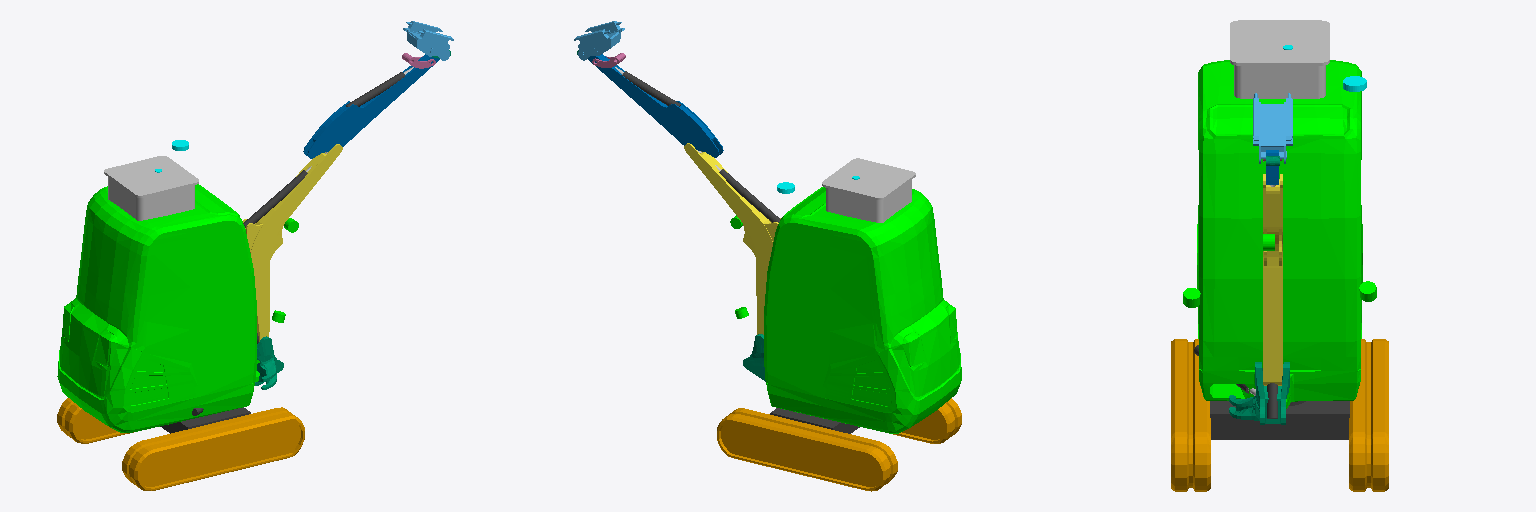
robot.urdf — e1_oilquick_without_tool:
<?xml version="1.0" encoding="utf-8"?>
<!-- =================================================================================== -->
<!-- |    This document was autogenerated by xacro from e1_oilquick_without_tool.urdf.xacro | -->
<!-- |    EDITING THIS FILE BY HAND IS NOT RECOMMENDED                                 | -->
<!-- =================================================================================== -->
<!-- Copyright (c) 2013-2019 [author], Karlsruhe, Germany. All rights reserved. -->
<robot name="e1_oilquick_without_tool">
  <material name="material_velodyne">
    <!--color rgba="0.5 0.5 0.55 1"/-->
    <!--color rgba="0.2 0.9 0.2 1"/-->
    <color rgba="0. 1. 0. 1"/>
  </material>
  <material name="material_box">
    <color rgba="0.8 0.8 0.8 0.8"/>
  </material>
  <material name="material_imugps">
    <!--color rgba="0.5 0.5 0.55 1"/-->
    <!--color rgba="0.2 0.9 0.2 1"/-->
    <color rgba="0. 1. 1. 1"/>
  </material>
  <material name="material_cylinder">
    <color rgba="0.3 0.3 0.3 1"/>
  </material>
  <material name="material_piston">
    <color rgba="0.8 0.8 0.8 1"/>
  </material>
  <link name="chassis">
    <inertial>
      <mass value="1500"/>
      <origin rpy="0  0  0" xyz="-0.534  0     0.686"/>
      <inertia ixx="0" ixy="0" ixz="0" iyy="0" iyz="0" izz="0"/>
    </inertial>
    <collision name="collision_undercarriage">
      <origin rpy="0  0  0" xyz="0     0     0.296"/>
      <geometry>
        <box size=".600 .840 .172"/>
      </geometry>
    </collision>
    <visual name="visual_undercarriage">
      <origin rpy="0  0  0" xyz="0     0     0.296"/>
      <geometry>
        <box size=".600 .840 .172"/>
      </geometry>
      <material name="material_cylinder"/>
    </visual>
    <collision name="collision_rotation_gear">
      <origin rpy="0 0 0" xyz="0 0 0.432"/>
      <geometry>
        <cylinder length=".1" radius=".20"/>
      </geometry>
    </collision>
    <visual name="visual_rotation_gear">
      <origin rpy="0 0 0" xyz="0 0 0.432"/>
      <geometry>
        <cylinder length=".1" radius=".20"/>
      </geometry>
      <material name="material_cylinder"/>
    </visual>
    <collision name="collision_track_tire_right">
      <origin rpy="0 0 0" xyz="-.110 -.535 .191"/>
      <geometry>
        <box size="1.605 .230 .382"/>
      </geometry>
    </collision>
    <visual name="visual_track_tire_right">
      <origin rpy="0 0 0" xyz="0.05 -.535 0"/>
      <geometry>
        <mesh filename="package://e1_description/meshes/track_wheel.dae" scale="0.411 0.4 0.4"/>
      </geometry>
    </visual>
    <collision name="collision_track_tire_left">
      <origin rpy="0 0 0" xyz="-.110 .535 .191"/>
      <geometry>
        <box size="1.605 .230 .382"/>
      </geometry>
    </collision>
    <visual name="visual_track_tire_left">
      <origin rpy="0 0 0" xyz="0.05 .535 0"/>
      <geometry>
        <mesh filename="package://e1_description/meshes/track_wheel.dae" scale="0.411 0.4 0.4"/>
      </geometry>
    </visual>
    <collision name="collision_blade">
      <origin rpy="0 0 0" xyz="0.8775 0 0.075"/>
      <geometry>
        <box size="0.37 1.3 0.91"/>
      </geometry>
    </collision>
  </link>
  <link name="cabin">
    <collision name="collision_cabin">
      <origin rpy="0 0 0" xyz="-.384 0 1.5"/>
      <geometry>
        <box size="1.50 1.1 2.1"/>
      </geometry>
    </collision>
    <visual name="visual_cabin">
      <origin rpy="0 0 1.5707" xyz="0 0 0.400"/>
      <geometry>
        <mesh filename="package://e1_description/meshes/cabin.dae" scale="0.45 0.45 0.45"/>
      </geometry>
      <material name="material_velodyne"/>
    </visual>
  </link>
  <link name="intermediate_cabin_boom">
    <inertial>
      <mass value="10"/>
      <origin rpy="0  0  0" xyz="0.09  0    0.02"/>
      <inertia ixx="0" ixy="0" ixz="0" iyy="0" iyz="0" izz="0"/>
    </inertial>
    <collision name="collision">
      <origin rpy="0 0 0" xyz="0.07 -0.07 0.05"/>
      <geometry>
        <box size=".400 .40 .40"/>
      </geometry>
    </collision>
    <visual name="visual">
      <origin rpy="0  0  0" xyz="0     0    -0.002"/>
      <geometry>
        <mesh filename="package://e1_description/meshes/intermediate.dae" scale="0.45 0.45 0.45"/>
      </geometry>
    </visual>
  </link>
  <link name="boom">
    <inertial>
      <mass value="50"/>
      <origin rpy="0  0  0" xyz="0.14   0     0.935"/>
      <inertia ixx="0" ixy="0" ixz="0" iyy="0" iyz="0" izz="0"/>
    </inertial>
    <collision name="collision_boom_1">
      <origin rpy="0 -0.05 0" xyz="-0.0 0 0.57"/>
      <geometry>
        <box size=".350 .250 1.200"/>
      </geometry>
    </collision>
    <collision name="collision_boom_2">
      <origin rpy="0 0.8224 0" xyz="0.3 0 1.38"/>
      <geometry>
        <box size=".300 .250 1.05"/>
      </geometry>
    </collision>
    <collision name="velodyne_boom_c">
      <origin rpy="1.67339 -0.544965 3.09109" xyz="0.266848 0.0019812 1.03801"/>
      <geometry>
        <cylinder length="0.12" radius="0.08"/>
      </geometry>
    </collision>
    <visual name="visual_boom">
      <origin rpy="0      -0.02    -3.14158" xyz="0  0  0"/>
      <geometry>
        <mesh filename="package://e1_description/meshes/boom.dae" scale="1.1 1.1 1.1"/>
      </geometry>
    </visual>
  </link>
  <link name="stick">
    <inertial>
      <mass value="30"/>
      <origin rpy="0  0  0" xyz="0.495  0     0.31"/>
      <inertia ixx="0" ixy="0" ixz="0" iyy="0" iyz="0" izz="0"/>
    </inertial>
    <collision name="stick">
      <origin rpy="0 1.018 0" xyz="0.375 0 0.34"/>
      <geometry>
        <box size=".30 .350 1.5"/>
      </geometry>
    </collision>
    <visual name="stick">
      <origin rpy="0     0.055  0" xyz="0  0  0"/>
      <geometry>
        <mesh filename="package://e1_description/meshes/stick.dae" scale="0.42 0.43 0.45"/>
      </geometry>
    </visual>
  </link>
  <link name="base_link"/>
  <joint name="chassis_rotation" type="continuous">
    <parent link="base_link"/>
    <child link="chassis"/>
    <origin rpy="0  0  0" xyz="0 0 0"/>
    <axis xyz="0  0  1"/>
    <limit effort="0" lower="0" upper="0" velocity="0.2"/>
  </joint>
  <joint name="blade_z" type="prismatic">
    <parent link="chassis"/>
    <child link="blade"/>
    <origin rpy="0 0 0" xyz="0.8775 0 -0.115"/>
    <axis xyz="0 0 1"/>
    <limit effort="0.0" lower="0.13" upper="0.35" velocity="0.0"/>
  </joint>
  <joint name="cabin_rotation" type="continuous">
    <parent link="chassis"/>
    <child link="cabin"/>
    <origin rpy="0  0  0" xyz="0 0 0"/>
    <axis xyz="0  0  1"/>
    <limit effort="0" lower="-3.141" upper="3.141" velocity="1.05"/>
  </joint>
  <joint name="slewing_revolute" type="revolute">
    <parent link="cabin"/>
    <child link="intermediate_cabin_boom"/>
    <origin rpy="0  0  0" xyz="0.53    -0.044    0.57999"/>
    <axis xyz="0  0  1"/>
    <limit effort="0" lower="-0.78" upper="1.36" velocity="0.2"/>
  </joint>
  <joint name="boom_revolute" type="revolute">
    <parent link="intermediate_cabin_boom"/>
    <child link="boom"/>
    <origin rpy="0  0  0" xyz="0.095  0     0.18"/>
    <axis xyz="0  1  0"/>
    <limit effort="0" lower="0.0" upper="1.5" velocity="0.2"/>
  </joint>
  <joint name="stick_revolute" type="revolute">
    <parent link="boom"/>
    <child link="stick"/>
    <origin rpy="0  0  0" xyz="0.7    0     1.655"/>
    <axis xyz="0  1  0"/>
    <limit effort="0" lower="-0.02" upper="2" velocity="0.2"/>
  </joint>
  <joint name="slewing_prismatic" type="prismatic">
    <parent link="cylinder_slewing"/>
    <child link="piston_slewing"/>
    <origin rpy="0 0 0." xyz="0  0  0"/>
    <axis xyz="0  0  1"/>
    <limit effort="0.0" lower="0.4" upper="0.8" velocity="0.0"/>
  </joint>
  <joint name="boom_prismatic" type="prismatic">
    <parent link="cylinder_boom"/>
    <child link="piston_boom"/>
    <origin rpy="0 0.0  0" xyz="0  0  0"/>
    <axis xyz="0  0  1"/>
    <limit effort="0.0" lower="0.78" upper="1.14" velocity="0.0"/>
  </joint>
  <joint name="stick_prismatic" type="prismatic">
    <parent link="cylinder_stick"/>
    <child link="piston_stick"/>
    <origin rpy="0 0. 0" xyz="0  0  0"/>
    <axis xyz="0  0  1"/>
    <limit effort="0.0" lower="0.77" upper="1.23" velocity="0.0"/>
  </joint>
  <joint name="bucket_prismatic" type="prismatic">
    <parent link="cylinder_bucket"/>
    <child link="piston_bucket"/>
    <origin rpy="0 0 0" xyz="0  0  0"/>
    <axis xyz="0  0  1"/>
    <limit effort="0.0" lower="0.64" upper="0.983" velocity="0.0"/>
    <!--limit effort="0.0" lower="0.61" upper="1.02" velocity="0.0"/-->
    <!-- cylinder only 49cm, mit Gelenkpunkt 56cm, gemessen 2.218rad 93.5cm umgerechnet 97.0cm -->
    <!-- stick cylinder 68cm, boom 64cm mit Gelenkpunkt -->
    <!-- gemessen min/max 63.5cm, 98.0cm, umgerechnet alt 60.4cm, 100.9cm -->
  </joint>
  <joint name="cylinder_slewing" type="revolute">
    <parent link="cabin"/>
    <child link="cylinder_slewing"/>
    <origin rpy="-0.4 1.5707  0.1098" xyz="-0.05 -0.36 0.54"/>
    <axis xyz="1  0  0"/>
    <limit effort="0" lower="0" upper="0" velocity="0.1"/>
  </joint>
  <joint name="cylinder_boom" type="revolute">
    <parent link="intermediate_cabin_boom"/>
    <child link="cylinder_boom"/>
    <origin rpy="0  -0.55  0" xyz="0.21  0   -0.02"/>
    <axis xyz="0  1  0"/>
    <limit effort="0" lower="0" upper="0" velocity="0.1"/>
  </joint>
  <joint name="cylinder_stick" type="revolute">
    <parent link="boom"/>
    <child link="cylinder_stick"/>
    <origin rpy="0 1.0276 0" xyz="-0.13   0     1.135"/>
    <axis xyz="0  -1  0"/>
    <limit effort="0" lower="0" upper="0" velocity="0.1"/>
  </joint>
  <joint name="cylinder_bucket" type="revolute">
    <parent link="stick"/>
    <child link="cylinder_bucket"/>
    <origin rpy="0  1.242  0" xyz="0.14   0     0.315"/>
    <axis xyz="0  -1  0"/>
    <limit effort="0" lower="0" upper="0" velocity="0.1"/>
  </joint>
  <joint name="bucket_lever" type="revolute">
    <parent link="stick"/>
    <child link="bucket_lever_1_link"/>
    <origin rpy="0  0.05  0" xyz="0.89    0       0.56499"/>
    <axis xyz="0  1  0"/>
    <limit effort="0" lower="0" upper="0" velocity="0.1"/>
  </joint>
  <link name="cylinder_slewing">
    <inertial>
      <mass value="5"/>
      <origin rpy="0  0  0" xyz="0.  0   0"/>
      <inertia ixx="0" ixy="0" ixz="0" iyy="0" iyz="0" izz="0"/>
    </inertial>
    <visual name="visual_c_slewing">
      <origin rpy="0 0 0" xyz="0. 0  0.06"/>
      <geometry>
        <cylinder length=".640" radius=".034"/>
      </geometry>
      <material name="material_cylinder"/>
    </visual>
  </link>
  <link name="piston_slewing">
    <inertial>
      <mass value="5"/>
      <origin rpy="0  0  0" xyz="-0. -0.0  0.22"/>
      <inertia ixx="0" ixy="0" ixz="0" iyy="0" iyz="0" izz="0"/>
    </inertial>
    <visual name="visual_p_slewing">
      <origin rpy="0 0 0" xyz="-0. -0.0  -0.24"/>
      <geometry>
        <cylinder length=".600" radius=".020"/>
      </geometry>
      <material name="material_piston"/>
    </visual>
  </link>
  <link name="cylinder_boom">
    <inertial>
      <mass value="10"/>
      <origin rpy="0  0  0" xyz="0.00    0       0.28999"/>
      <inertia ixx="0" ixy="0" ixz="0" iyy="0" iyz="0" izz="0"/>
    </inertial>
    <collision name="collision_cylinder_boom">
      <origin rpy="0     0.0  0" xyz="0.00    0       0.28999"/>
      <geometry>
        <cylinder length=".584" radius=".034"/>
      </geometry>
    </collision>
    <visual name="visual_cylinder_boom">
      <origin rpy="0     0.0  0" xyz="0.00    0       0.31799"/>
      <geometry>
        <cylinder length=".64" radius=".034"/>
      </geometry>
      <material name="material_cylinder"/>
    </visual>
  </link>
  <link name="piston_boom">
    <inertial>
      <mass value="5"/>
      <origin rpy="0  0  0" xyz="-0.00  0    0.8"/>
      <inertia ixx="0" ixy="0" ixz="0" iyy="0" iyz="0" izz="0"/>
    </inertial>
    <collision name="collision_piston_boom">
      <origin rpy="0     0.0  0" xyz="-0.00  0    -0.31"/>
      <geometry>
        <cylinder length=".600" radius=".020"/>
      </geometry>
    </collision>
    <visual name="visual_piston_boom">
      <origin rpy="0     0.0  0" xyz="-0.00  0    -0.31"/>
      <geometry>
        <cylinder length=".600" radius=".020"/>
      </geometry>
      <material name="material_piston"/>
    </visual>
  </link>
  <link name="cylinder_stick">
    <inertial>
      <mass value="10"/>
      <origin rpy="0  0  0" xyz="0.  0     0.201"/>
      <inertia ixx="0" ixy="0" ixz="0" iyy="0" iyz="0" izz="0"/>
    </inertial>
    <collision name="collision_cylinder_ds">
      <origin rpy="0      0  0" xyz="0.  0     0.261"/>
      <geometry>
        <cylinder length=".594" radius=".034"/>
      </geometry>
    </collision>
    <visual name="visual_cylinder_ds">
      <origin rpy="0      0  0" xyz="0.  0     0.304"/>
      <geometry>
        <cylinder length=".68" radius=".034"/>
      </geometry>
      <material name="material_cylinder"/>
    </visual>
  </link>
  <link name="piston_stick">
    <inertial>
      <mass value="5"/>
      <origin rpy="0  0  0" xyz="-0.  0    0.4"/>
      <inertia ixx="0" ixy="0" ixz="0" iyy="0" iyz="0" izz="0"/>
    </inertial>
    <collision name="collision_piston_ds">
      <origin rpy="0      0.  0" xyz="-0.  0    -0.34"/>
      <geometry>
        <cylinder length=".655" radius=".020"/>
      </geometry>
    </collision>
    <visual name="visual_piston_ds">
      <origin rpy="0      0.  0" xyz="-0.  0    -0.34"/>
      <geometry>
        <cylinder length=".655" radius=".020"/>
      </geometry>
      <material name="material_piston"/>
    </visual>
  </link>
  <link name="cylinder_bucket">
    <inertial>
      <mass value="8"/>
      <inertia ixx="0" ixy="0" ixz="0" iyy="0" iyz="0" izz="0"/>
    </inertial>
    <collision name="collision_cylinder_bucket">
      <origin rpy="0      0  0" xyz="0  0     0.204"/>
      <geometry>
        <cylinder length=".456" radius=".034"/>
      </geometry>
    </collision>
    <visual name="visual_cylinder_bucket">
      <origin rpy="0      0 0" xyz="0  0     0.256"/>
      <geometry>
        <cylinder length=".56" radius=".034"/>
      </geometry>
      <material name="material_cylinder"/>
    </visual>
  </link>
  <link name="piston_bucket">
    <inertial>
      <mass value="3"/>
      <inertia ixx="0" ixy="0" ixz="0" iyy="0" iyz="0" izz="0"/>
    </inertial>
    <collision name="collision_piston_bucket">
      <origin rpy="0      0 0" xyz="-0   0    -0.304"/>
      <geometry>
        <cylinder length=".602" radius=".020"/>
      </geometry>
    </collision>
    <visual name="visual_piston_bucket">
      <origin rpy="0      0  0" xyz="-0   0    -0.304"/>
      <geometry>
        <cylinder length=".602" radius=".020"/>
      </geometry>
      <material name="material_piston"/>
    </visual>
  </link>
  <link name="bucket_lever_1_link">
    <inertial>
      <mass value="1"/>
      <origin rpy="0  0  0" xyz="-0.2   0    0.05"/>
      <inertia ixx="0" ixy="0" ixz="0" iyy="0" iyz="0" izz="0"/>
    </inertial>
    <visual name="visual_bucket lever">
      <origin rpy="0  0  0" xyz="-0.2   0    0.05"/>
      <geometry>
        <mesh filename="package://e1_description/meshes/lever.dae" scale="0.953 1 0.9"/>
      </geometry>
    </visual>
  </link>
  <link name="box">
    <visual name="visual_box">
      <origin rpy="0 0 0" xyz="0 0 0"/>
      <geometry>
        <mesh filename="package://e1_description/meshes/universalbox.dae" scale="1 1 1"/>
        <!--outer dimensions: 0.6 0.6 0.25-->
      </geometry>
      <material name="material_box"/>
    </visual>
  </link>
  <joint name="box_j" type="fixed">
    <parent link="cabin"/>
    <child link="box"/>
    <origin rpy="0 0 0" xyz="-0.4 0.0 2.4005"/>
    <axis xyz="1  0  0"/>
    <limit effort="0" lower="0" upper="0" velocity="0"/>
  </joint>
  <link name="imu">
    <visual name="visual_imu">
      <origin rpy="0 0 0" xyz="0 0 0"/>
      <geometry>
        <cylinder length="0.073" radius="0.04"/>
      </geometry>
      <material name="material_imugps"/>
    </visual>
  </link>
  <joint name="imu_j" type="fixed">
    <parent link="cabin"/>
    <child link="imu"/>
    <origin rpy="0 0 0" xyz="-0.603 -0.19 2.33"/>
    <axis xyz="1  0  0"/>
    <limit effort="0" lower="0" upper="0" velocity="0"/>
  </joint>
  <link name="gps">
    <visual name="visual_gps">
      <origin rpy="0 0 0" xyz="0 0 0.01"/>
      <geometry>
        <cylinder length="0.02" radius="0.031"/>
      </geometry>
      <material name="material_imugps"/>
    </visual>
  </link>
  <joint name="gps_j" type="fixed">
    <parent link="cabin"/>
    <child link="gps"/>
    <origin rpy="0 0 0" xyz="-0.3060 0.05 2.513"/>
    <axis xyz="1  0  0"/>
    <limit effort="0" lower="0" upper="0" velocity="0"/>
  </joint>
  <link name="trimble_gps">
    <visual name="visual_trimble_gps">
      <origin rpy="0 0 0" xyz="0 0 0.01"/>
      <geometry>
        <cylinder length="0.04" radius="0.072"/>
      </geometry>
      <material name="material_imugps"/>
    </visual>
  </link>
  <joint name="trimble_gps_j" type="fixed">
    <parent link="cabin"/>
    <child link="trimble_gps"/>
    <origin rpy="0 0 0" xyz="0.1340 0.45 2.483"/>
    <axis xyz="1  0  0"/>
    <limit effort="0" lower="0" upper="0" velocity="0"/>
  </joint>
  <link name="velodyne_boom">
    <collision name="velodyne_boom_c">
      <origin rpy="0 0 0" xyz="0 0 0"/>
      <geometry>
        <cylinder length="0.0717" radius="0.05165"/>
      </geometry>
    </collision>
    <visual name="visual_velodyne_boom">
      <origin rpy="0 0 0" xyz="0 0 0"/>
      <geometry>
        <cylinder length="0.0717" radius="0.05165"/>
      </geometry>
      <material name="material_velodyne"/>
    </visual>
  </link>
  <joint name="velodyne_boom_j" type="fixed">
    <parent link="boom"/>
    <child link="velodyne_boom"/>
    <origin rpy="1.5726 -0.574965  3.1415" xyz="0.266848 -0.02 1.03801"/>
    <!--origin xyz="0.266848 0.0019812 1.03801" rpy="1.5726 -0.574965  3.1415"/-->
    <!--origin xyz="0.053 0 1.0" rpy="1.5726 -0.52 3.14"/-->
    <!--origin xyz="0.266848 0.0019812 1.03801" rpy="1.67339 -0.544965 3.09109"/-->
    <!--origin xyz="0.23 0.0 1.03" rpy="1.59 -0.55 3.09"/-->
    <axis xyz="1  0  0"/>
    <limit effort="0" lower="0" upper="0" velocity="0.1"/>
  </joint>
  <link name="velodyne_left">
    <visual name="visual_velodyne_left">
      <origin rpy="0 0 0" xyz="0 0 0"/>
      <geometry>
        <cylinder length="0.0717" radius="0.05165"/>
      </geometry>
      <material name="material_velodyne"/>
    </visual>
    <collision name="collision_velodyne_left">
      <origin rpy="0 0 0" xyz="0 0 0"/>
      <geometry>
        <cylinder length="0.0717" radius="0.05165"/>
      </geometry>
    </collision>
  </link>
  <joint name="joint_velodyne_left" type="fixed">
    <parent link="cabin"/>
    <child link="velodyne_left"/>
    <origin rpy="0.403021 -0.052493 1.583287" xyz="0.511925 0.53 1.292254"/>
    <!--origin xyz="0.511925 0.53 1.302254" rpy="0.403021 -0.052493 1.583287"/-->
    <!--origin xyz="0.402031 0.544676 1.26314" rpy="0.401424 -0.055307 1.623144"/-->
    <!--origin xyz="0.441925 0.546301 1.262254" rpy="0.403021 -0.052493 1.583287"/-->
    <!--origin xyz="0.44 0.56 1.23" rpy="0.380 -0.029 1.545"/-->
    <!--origin xyz="0.40 0.56 1.23" rpy="0.380 -0.029 1.585"/-->
    <axis xyz="1  0  0"/>
    <limit effort="0" lower="0" upper="0" velocity="0"/>
  </joint>
  <link name="velodyne_right">
    <visual name="visual_velodyne_right">
      <origin rpy="0 0 0" xyz="0 0 0"/>
      <geometry>
        <cylinder length="0.0717" radius="0.05165"/>
      </geometry>
      <material name="material_velodyne"/>
    </visual>
    <collision name="collision_velodyne_right">
      <origin rpy="0 0 0" xyz="0 0 0"/>
      <geometry>
        <cylinder length="0.0717" radius="0.05165"/>
      </geometry>
    </collision>
  </link>
  <joint name="joint_velodyne_right" type="fixed">
    <parent link="cabin"/>
    <child link="velodyne_right"/>
    <origin rpy="0.327456 0.015904 1.598201" xyz="0.503 -0.53 1.2468"/>
    <!--origin xyz="0.40 -0.50 1.2" rpy="0.305 0.040 1.558"/-->
    <axis xyz="1  0  0"/>
    <limit effort="0" lower="0" upper="0" velocity="0"/>
  </joint>
  <link name="camera_link"/>
  <joint name="joint_camera_link" type="fixed">
    <parent link="quickcoupler"/>
    <child link="camera_link"/>
    <origin rpy="3.141 0.02 0.0" xyz="0.43 -0.0 0.005"/>
    <axis xyz="1  0  0"/>
    <limit effort="0" lower="0" upper="0" velocity="0"/>
  </joint>
  <link name="realsense_link"/>
  <joint name="joint_realsense_camera" type="fixed">
    <parent link="quickcoupler"/>
    <child link="realsense_link"/>
    <!--origin xyz="0.4 0.015 -0.03" rpy="0.0 -0.05 0.0"/-->
    <origin rpy="0.0 -0.05 0.0" xyz="0.39 0.025 -0.06"/>
    <axis xyz="1  0  0"/>
    <limit effort="0" lower="0" upper="0" velocity="0"/>
  </joint>
  <link name="blade"/>
  <link name="quickcoupler">
    <inertial>
      <mass value="25"/>
      <inertia ixx="0" ixy="0" ixz="0" iyy="0" iyz="0" izz="0"/>
    </inertial>
    <visual name="visual_quickcoupler">
      <geometry>
        <mesh filename="package://e1_description/meshes/quickcoupler_oq40.dae" scale="1 1 1"/>
      </geometry>
    </visual>
    <collision name="collision_quickcoupler">
      <origin rpy="0 0 0" xyz="0.2 0 -0.1"/>
      <geometry>
        <box size="0.5 0.3 0.3"/>
      </geometry>
    </collision>
  </link>
  <joint name="bucket_revolute" type="revolute">
    <parent link="stick"/>
    <child link="quickcoupler"/>
    <origin rpy="0 -2.65 0" xyz="0.996 0 0.615"/>
    <axis xyz="0  1  0"/>
    <limit effort="0" lower="-0.005246877670288086" upper="3.0338263511657715" velocity="0"/>
  </joint>
  <joint name="bucket_lever_3" type="revolute">
    <parent link="quickcoupler"/>
    <child link="bucket_lever_2"/>
    <origin rpy="0 0.25 0" xyz="0.144 0 0"/>
    <axis xyz="0 1 0"/>
    <limit effort="0" lower="0" upper="0" velocity="0"/>
  </joint>
  <link name="bucket_lever_2">
    <inertial>
      <mass value="1"/>
      <origin rpy="0  0  0" xyz="-0.09  0   -0.03"/>
      <inertia ixx="0" ixy="0" ixz="0" iyy="0" iyz="0" izz="0"/>
    </inertial>
    <visual name="visual_bucket_lever_2">
      <origin rpy="-3.14158 -0.05     0" xyz="-0.181  0    -0.06"/>
      <geometry>
        <mesh filename="package://e1_description/meshes/lever.dae" scale="0.916 0.75 0.9"/>
      </geometry>
    </visual>
  </link>
</robot>

--- Render facts (derived) ---
Views: 3 orthographic renders of the robot side by side, from view 1: azimuth 30°, elevation 25°; view 2: azimuth 150°, elevation 25°; view 3: azimuth 270°, elevation 25°.
Robot: e1_oilquick_without_tool — 27 links, 26 joints (10 revolute, 2 continuous, 5 prismatic, 9 fixed); root link base_link; default pose: joints at zero except 5 at the middle of their limits (blade_z = 0.24, slewing_prismatic = 0.6, boom_prismatic = 0.96, stick_prismatic = 1, bucket_prismatic = 0.8115).
Visible links, largest first — view 1: cabin, chassis, box, boom, stick, quickcoupler, intermediate_cabin_boom, cylinder_stick; view 2: cabin, chassis, box, boom, stick, quickcoupler, intermediate_cabin_boom, cylinder_stick; view 3: cabin, chassis, box, boom, quickcoupler, intermediate_cabin_boom.
Link boxes in pixels (x1,y1,x2,y2): cabin: (57,184,259,432); chassis: (57,398,304,490); box: (104,156,198,220); boom: (243,144,342,341); stick: (303,54,439,158); quickcoupler: (403,21,453,60); intermediate_cabin_boom: (255,336,283,389); cylinder_stick: (243,170,307,227); cabin: (764,187,961,433); chassis: (717,398,961,491); box: (822,158,915,222); boom: (684,143,780,334); stick: (588,54,723,157); quickcoupler: (574,21,624,60); intermediate_cabin_boom: (743,334,765,381); cylinder_stick: (719,169,780,222); cabin: (1197,60,1362,408); chassis: (1171,339,1388,491); box: (1230,20,1329,98); boom: (1263,174,1282,385); quickcoupler: (1253,93,1292,163); intermediate_cabin_boom: (1229,362,1289,424).
Bounding box of the posed robot: 3.49 × 1.31 × 3.33 m (x, y, z).
10 mesh visuals loaded from 8 distinct referenced files (8 Collada DAE).
